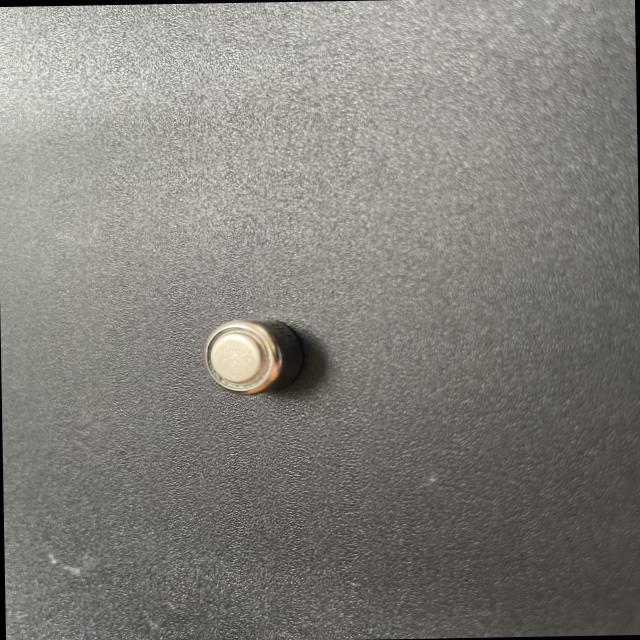COIN: (200, 314, 306, 396)
